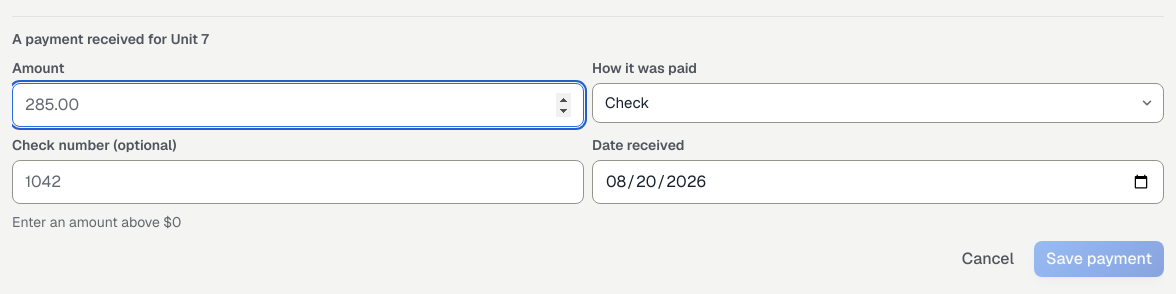
Test: a check or cash from an owner › refuses a date in the future
In the number field named "Payment amount": (298, 105) [12,83,584,127], type "60"
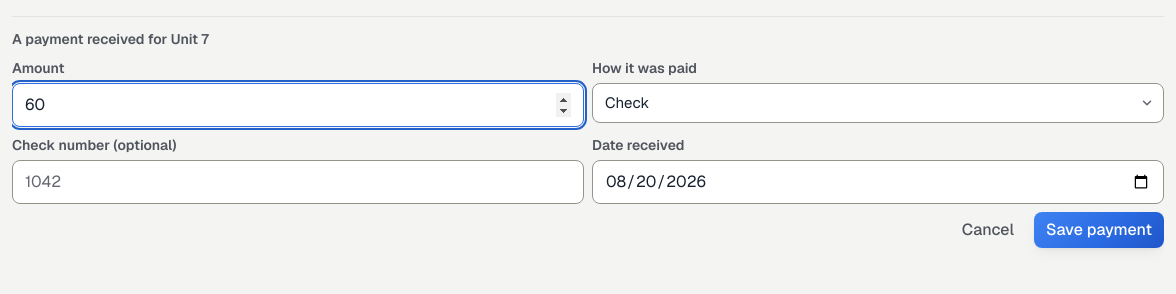
In the date field labelled "Date received": (878, 182) [592,160,1164,204], type "2026-08-21"
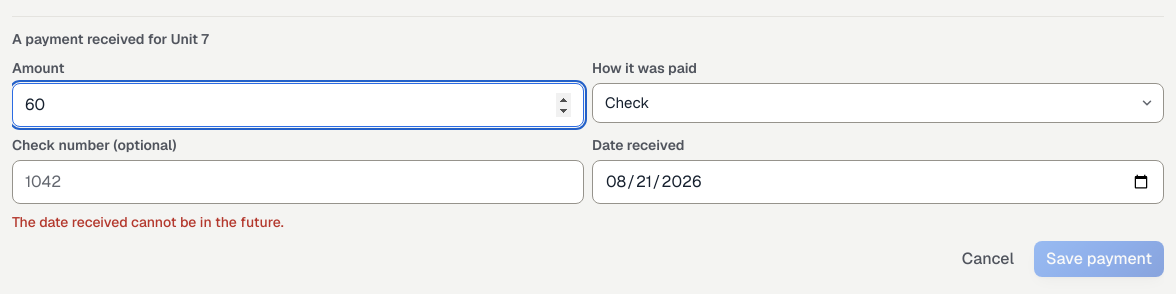
Now the button "Save payment" is disabled, box [1034,241,1164,277]
